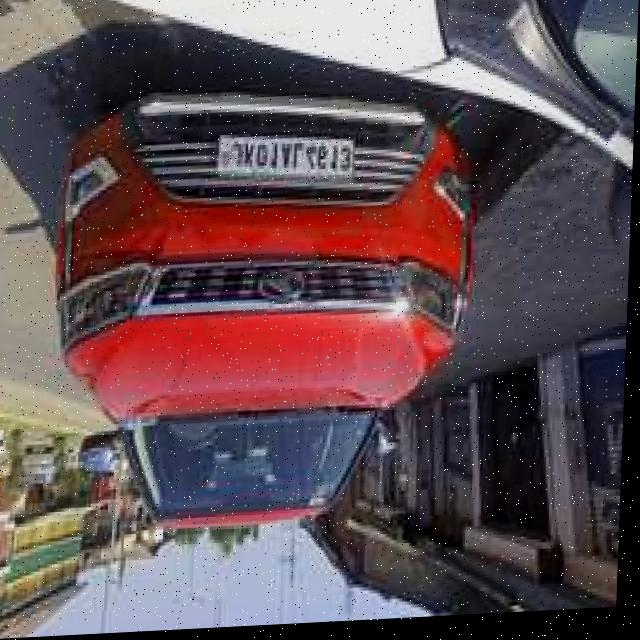plate: (218, 135, 356, 188)
